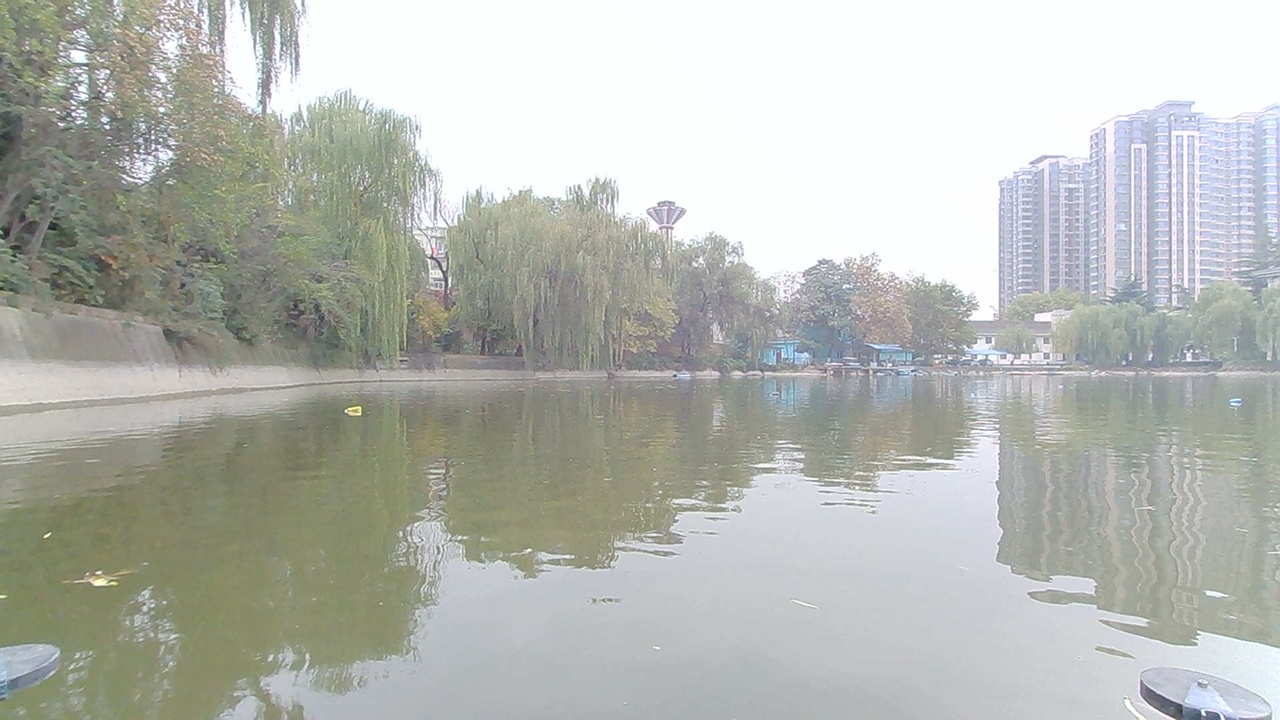bottle: (334, 398, 368, 421), (1219, 391, 1250, 414), (760, 386, 789, 401)
